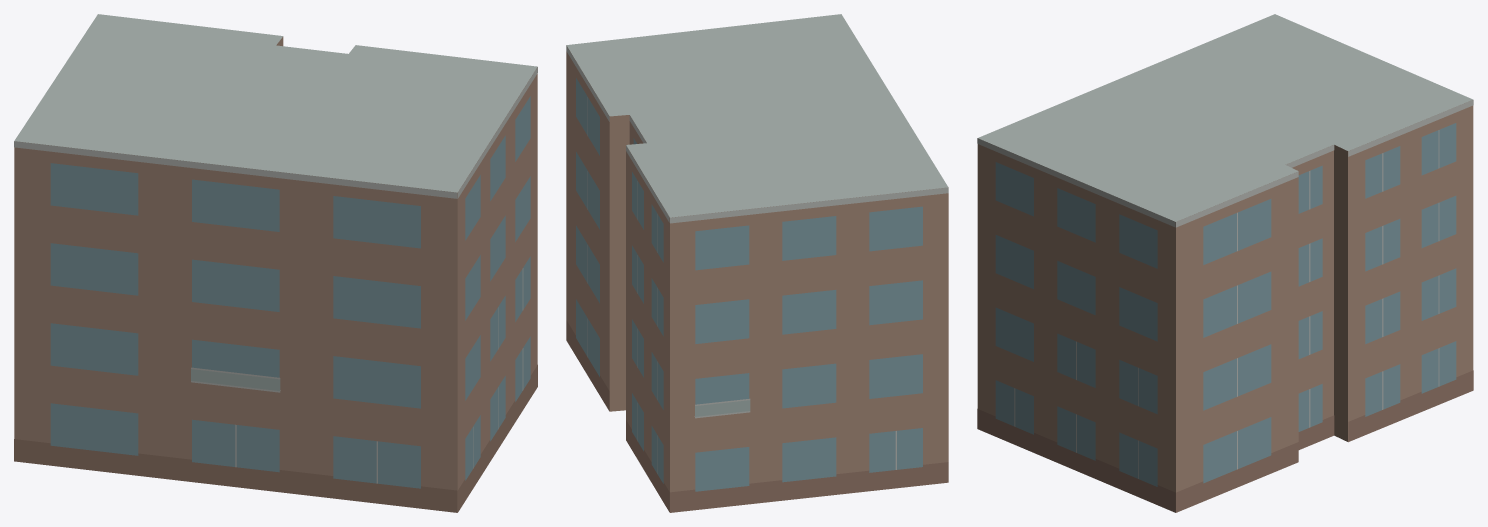
The model's file is survey-upis-32881703.glb.
3 views of the same model, side by side, from view 1: azimuth 30°, elevation 25°; view 2: azimuth 150°, elevation 25°; view 3: azimuth 270°, elevation 25° (orthographic). The views are drawn at different scales.
Visible parts, largest first — view 1: survey-upis-32881703.tmp; view 2: survey-upis-32881703.tmp; view 3: survey-upis-32881703.tmp.
Boxes of the visible parts, x1=… form: survey-upis-32881703.tmp: x1=14, y1=14, x2=537, y2=512; survey-upis-32881703.tmp: x1=566, y1=14, x2=948, y2=512; survey-upis-32881703.tmp: x1=977, y1=14, x2=1473, y2=512.
Size of the model in its own units: 18.94 by 12.35 by 19.08.
